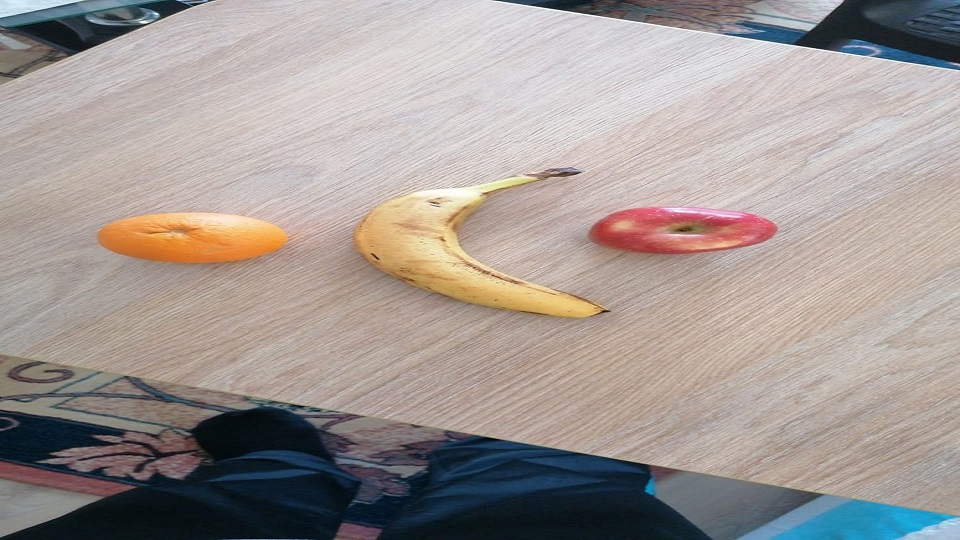elma: (587, 205, 779, 257)
muz: (353, 166, 608, 318)
portakal: (98, 211, 287, 265)
